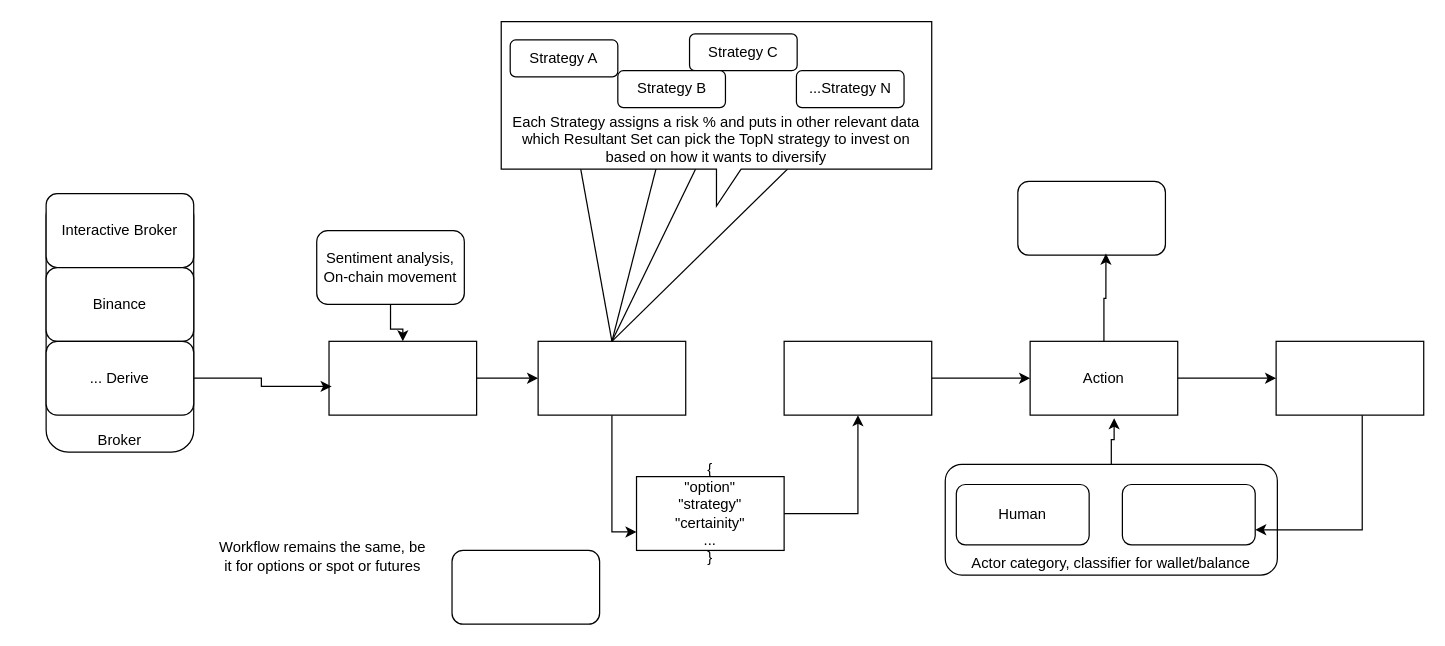
Image size: 1445x646. Some labels were removed from this diagram. Each missing label, with the centre of its shape:
Analysis: (x=611, y=377)
Automation: (x=1188, y=514)
Ingestion every hour: (x=402, y=377)
Learning: (x=1349, y=377)
Logging is Journaling: (x=525, y=586)
Resultset: (x=857, y=377)
Risk Management + Portfolio management: (x=1091, y=217)
